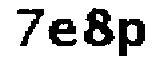7: (13, 3, 47, 51)
8: (82, 5, 115, 54)
e: (47, 16, 78, 53)
p: (116, 15, 148, 60)
